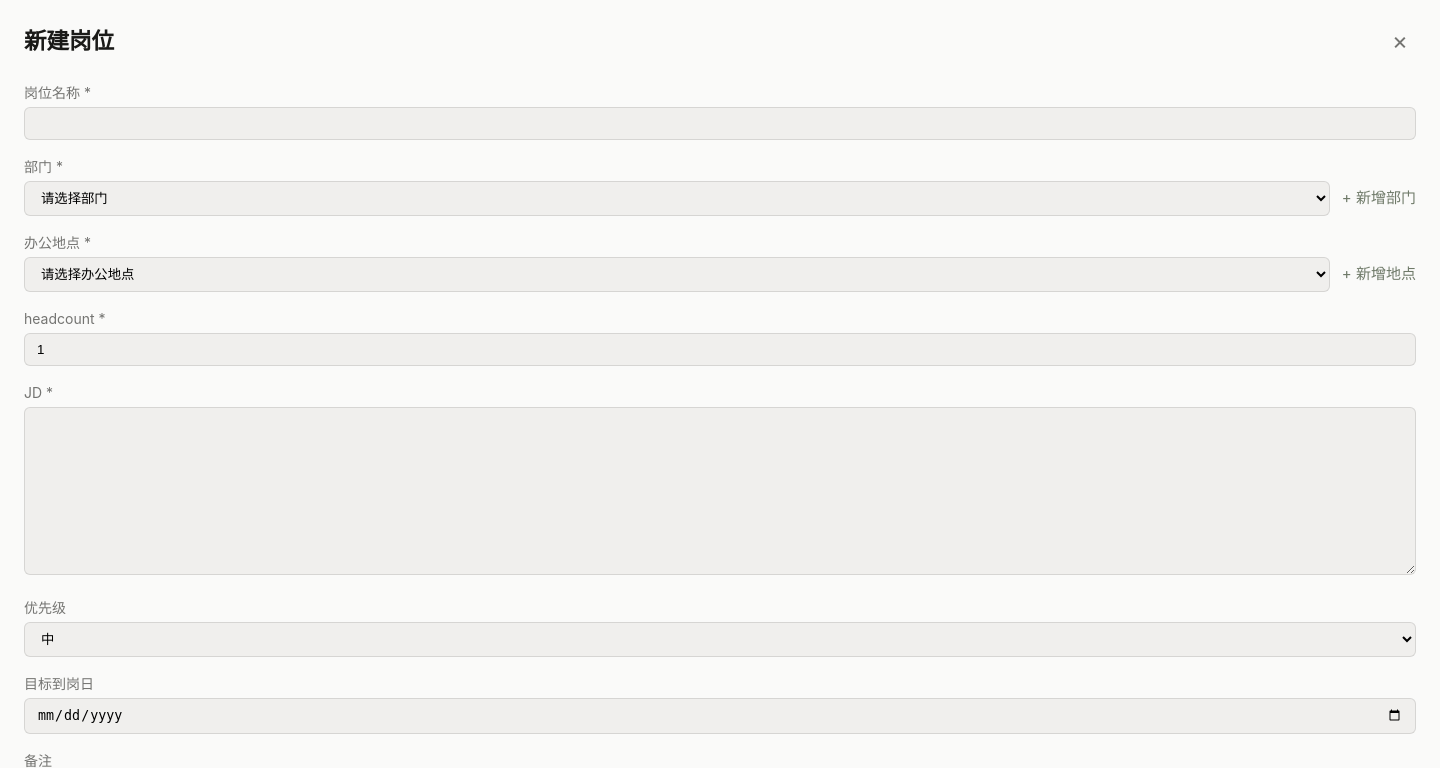
Test: JobCreateForm › 支持内联新增地点并自动带入地址
Click the button "+ 新增地点" at (1379, 274), box [1342,263,1416,286]
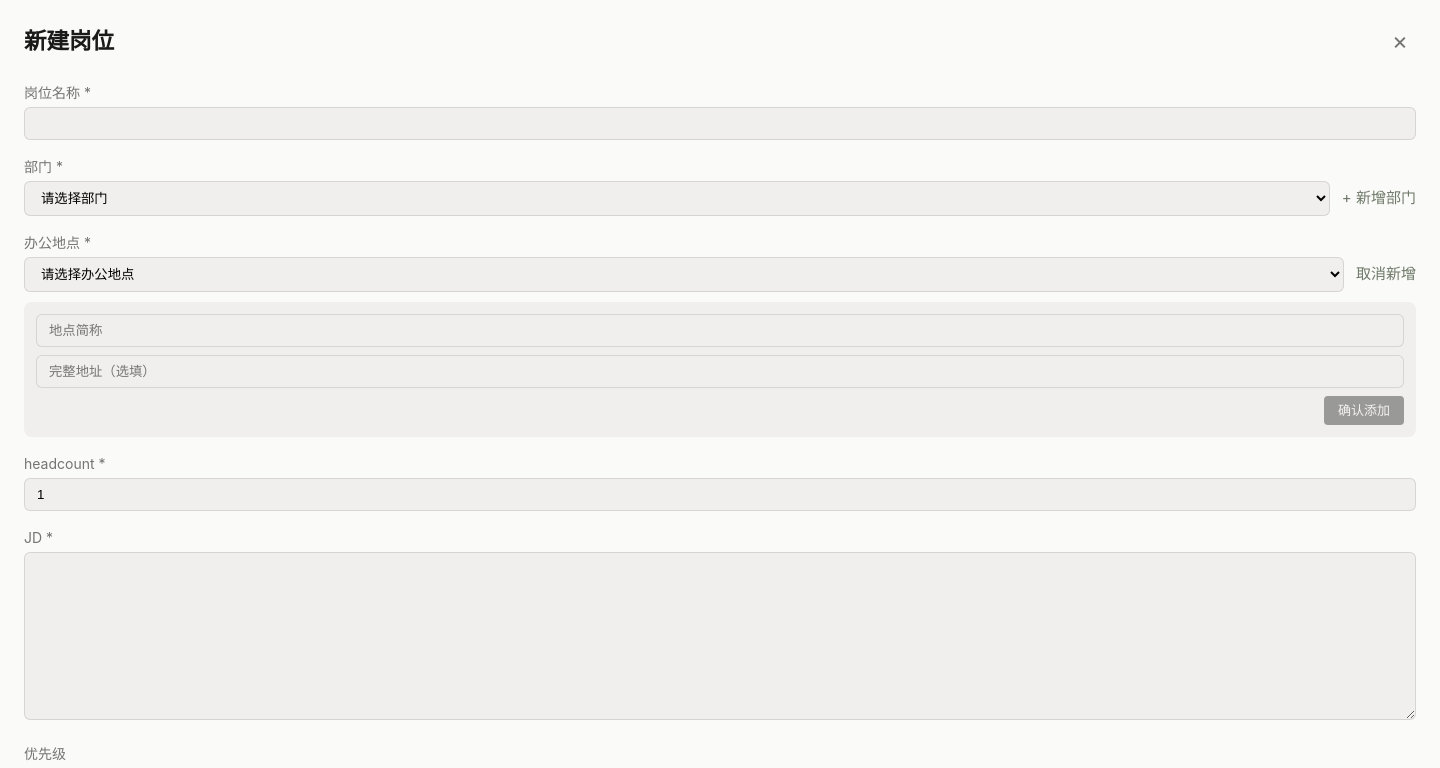
Type "上海" into the field with placeholder "地点简称" at (720, 330), box [36,314,1404,347]
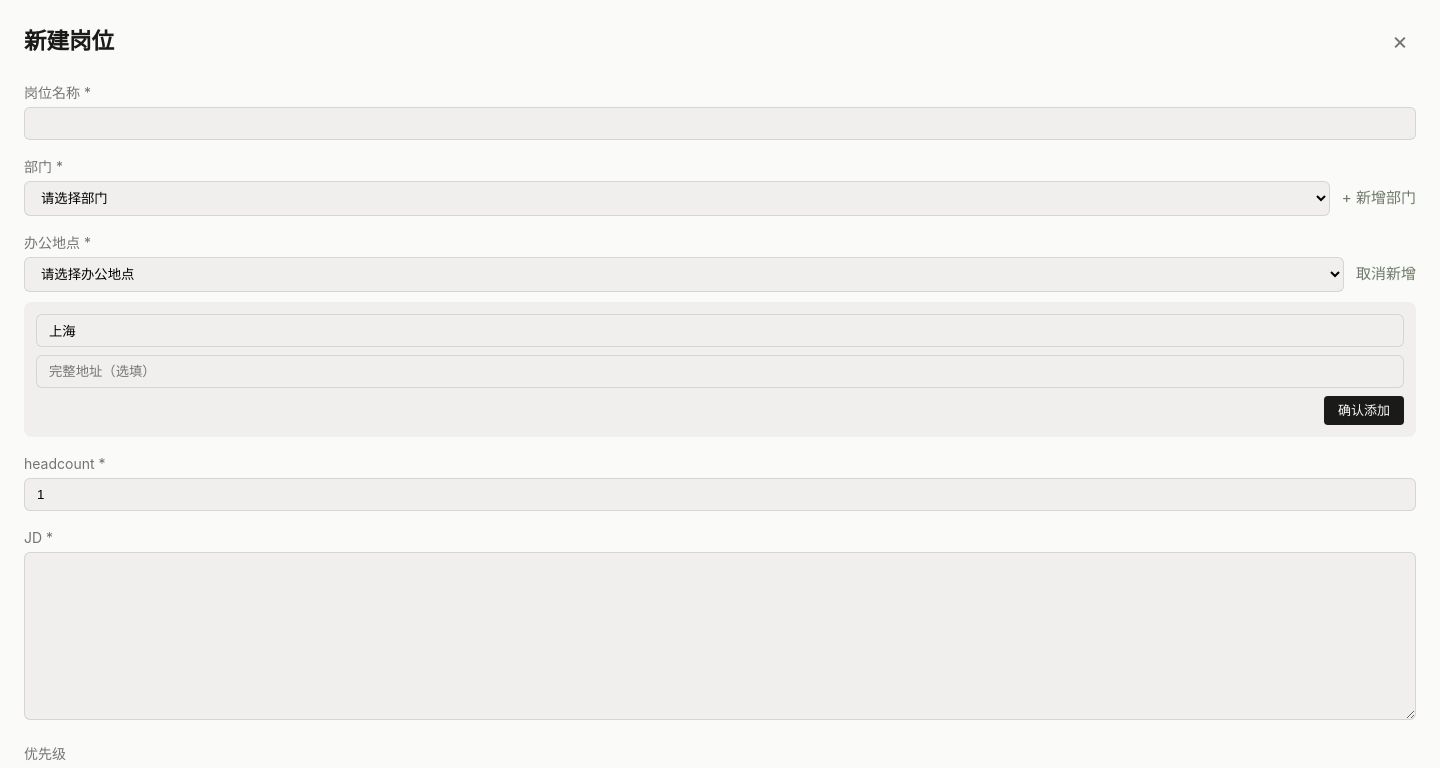
Type "上海市静安区" into the field with placeholder "完整地址（选填）" at (720, 371), box [36,355,1404,388]
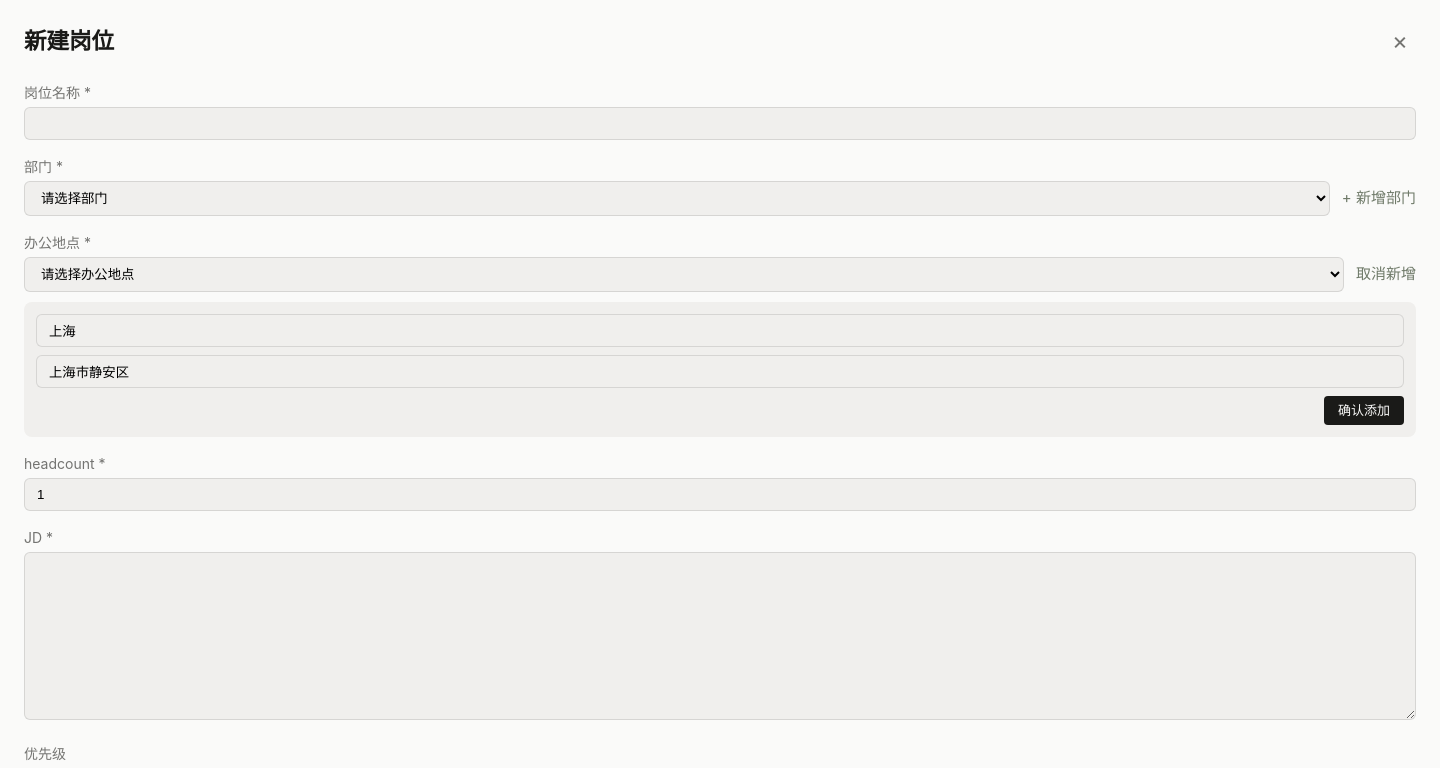
Click the button with class "btn--primary" at (1364, 411), box [1324,396,1404,425]
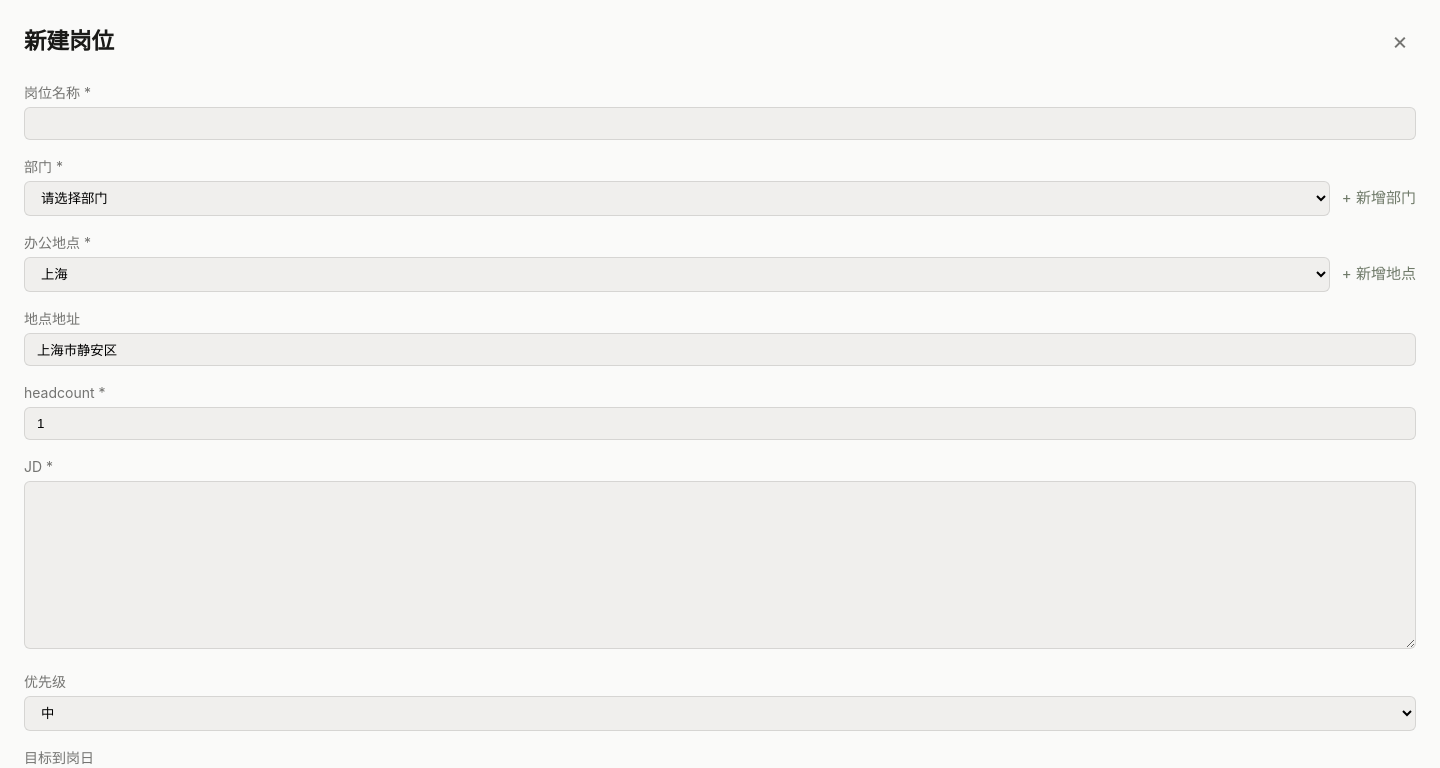
Expected: the dropdown below "办公地点 *" shows "上海", [24,257,1330,292]
Expected: the field below "地点地址" holds "上海市静安区", [24,333,1416,366]
